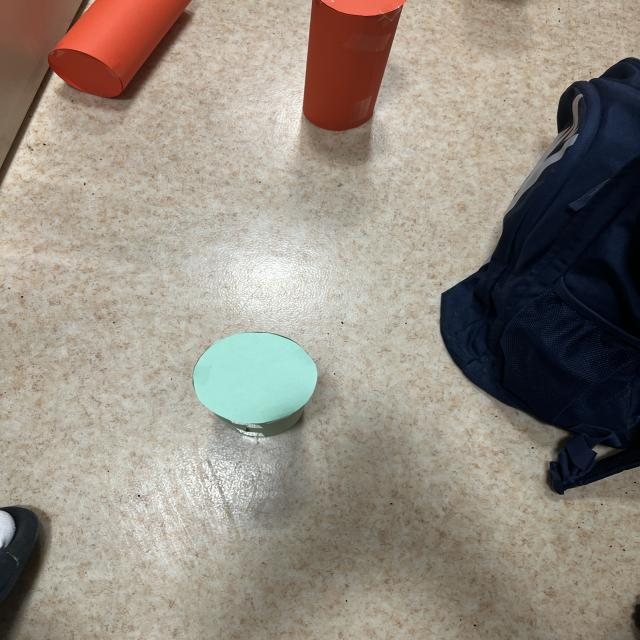meta: (193, 332, 317, 439)
przeszkoda: (48, 0, 190, 97), (303, 0, 406, 130)
